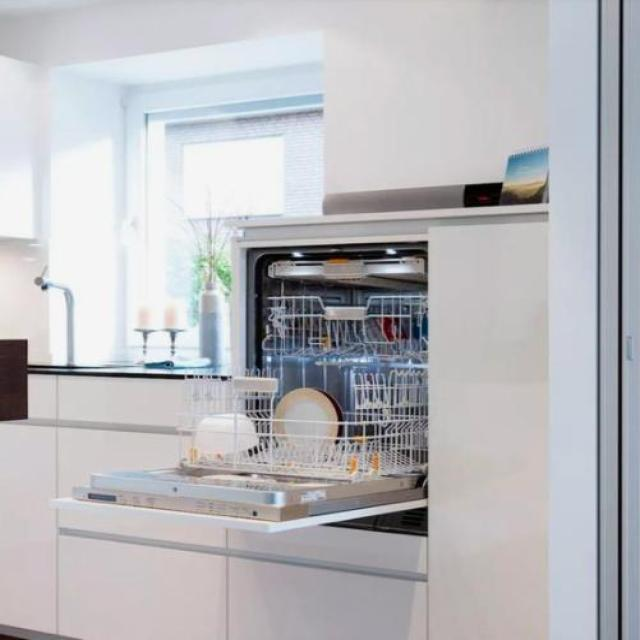dishwasher: (47, 228, 424, 542)
